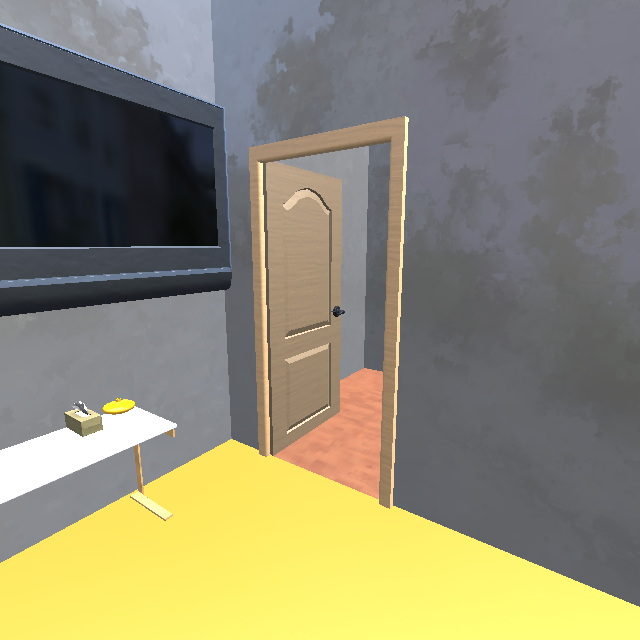open_doorway: (249, 116, 408, 508)
